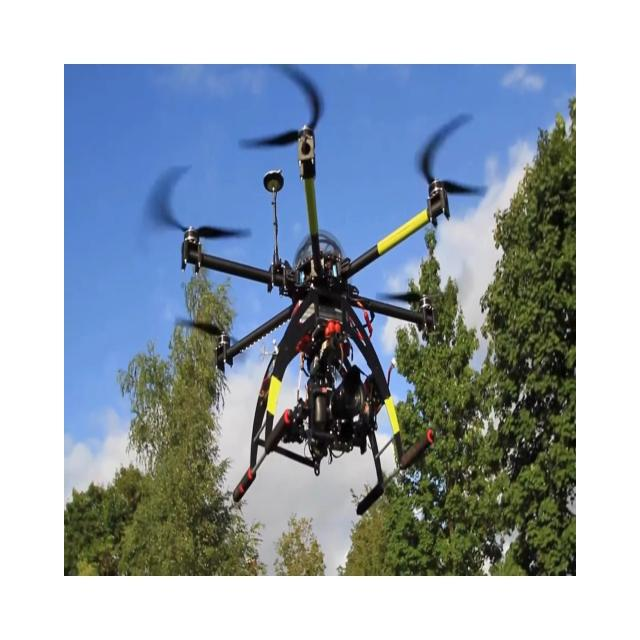drone: (144, 64, 489, 516)
